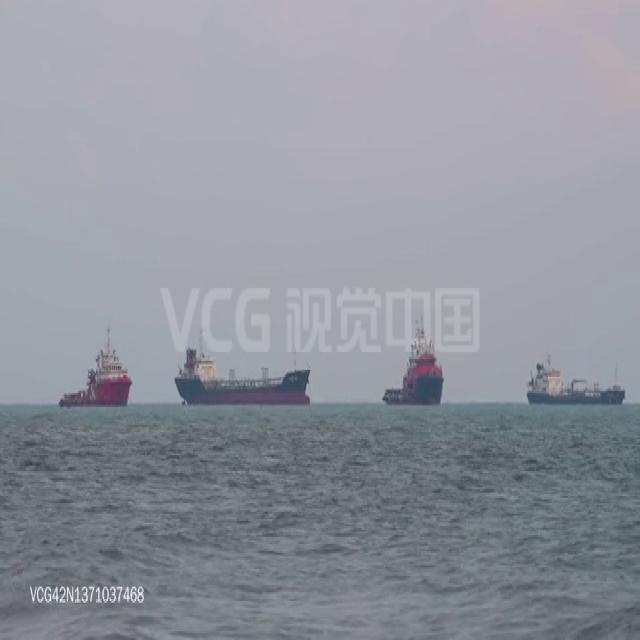cargoship: (172, 338, 314, 403), (526, 350, 625, 407), (58, 329, 132, 404), (381, 325, 445, 404)
